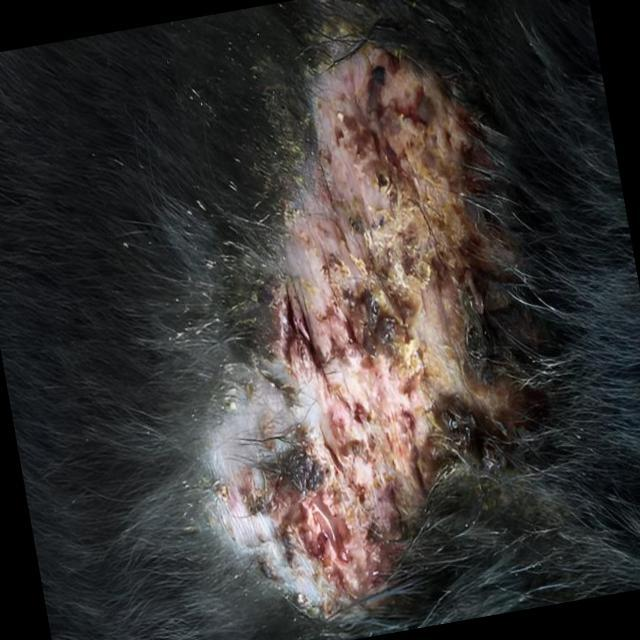allergic dermatitis: (191, 32, 518, 611)
